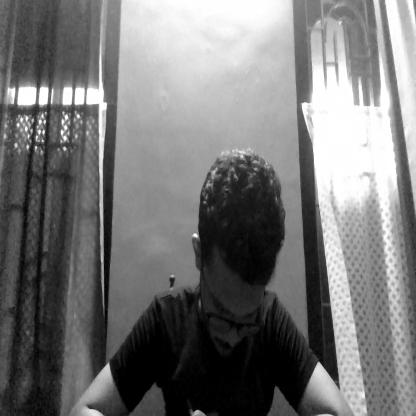Distracted: (201, 147, 284, 356)
